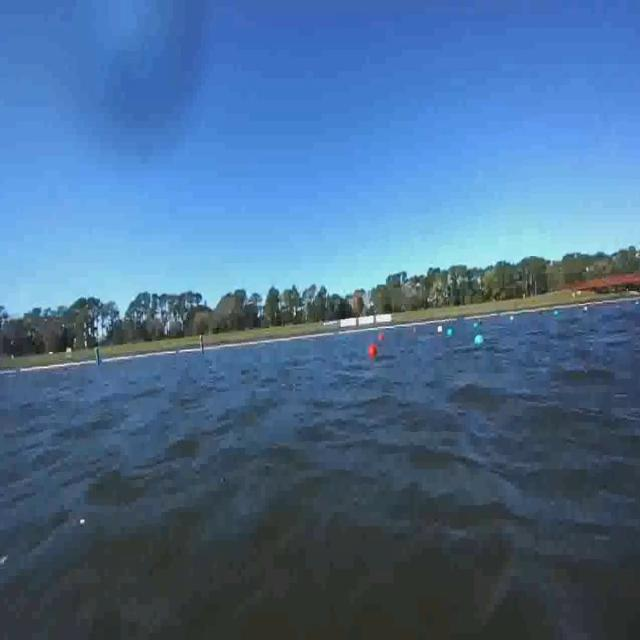green-buoy: (473, 336, 483, 346), (446, 328, 454, 338), (472, 320, 478, 330)
red-buoy: (368, 344, 376, 359), (378, 333, 386, 343)
yellow-buoy: (437, 323, 443, 334)
